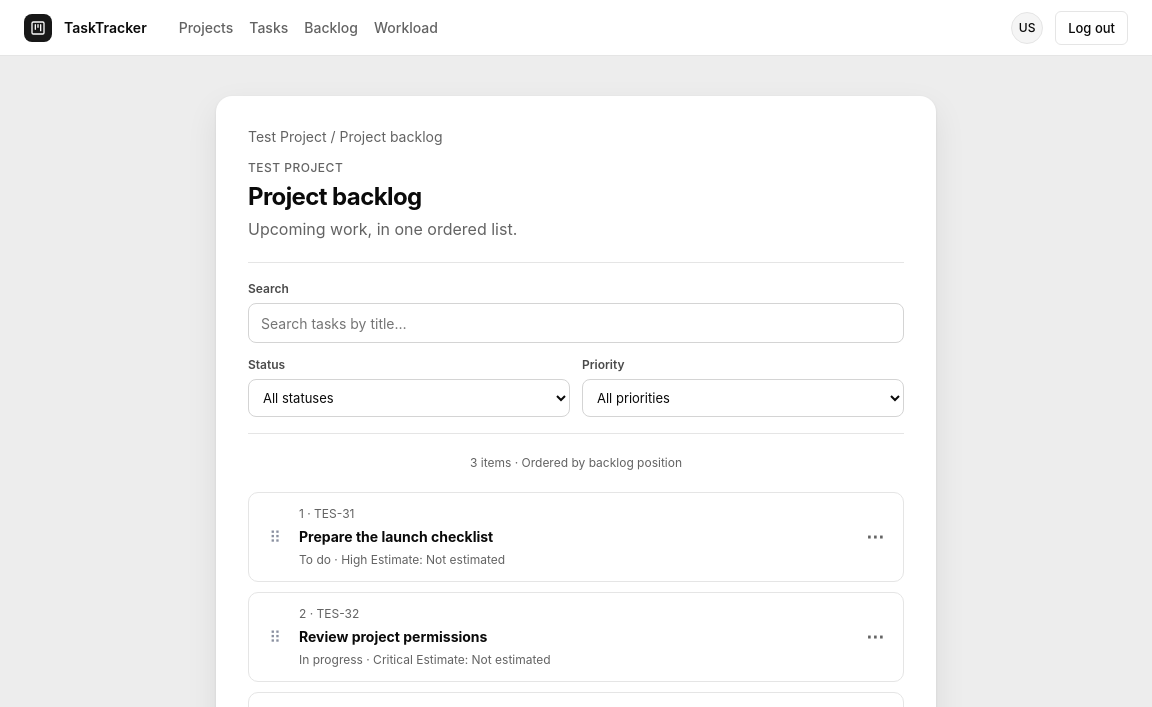
Scenario: [US-24] Prioritize and Reorder Backlog Items (T1WOR-163) › rolls back optimistic priority change when updateTaskPriority fails (State 09)
Expected: the heading "Project backlog" is shown, top-left (248, 181), bottom-right (422, 213)
# Open change priority
Click the button with test id "backlog-item-actions-btn-task-1". click: click(875, 537)
box: top-left (861, 523), bottom-right (889, 551)
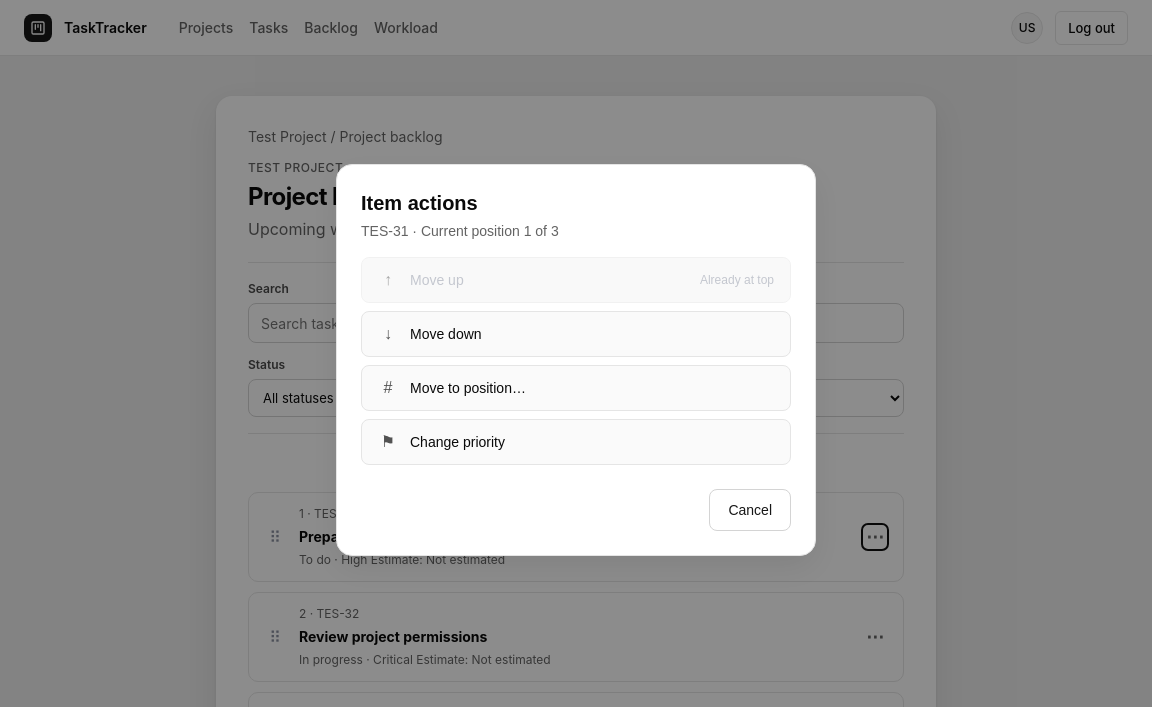
Click the button with test id "backlog-action-change-priority". click: click(457, 442)
box: top-left (361, 419), bottom-right (791, 465)
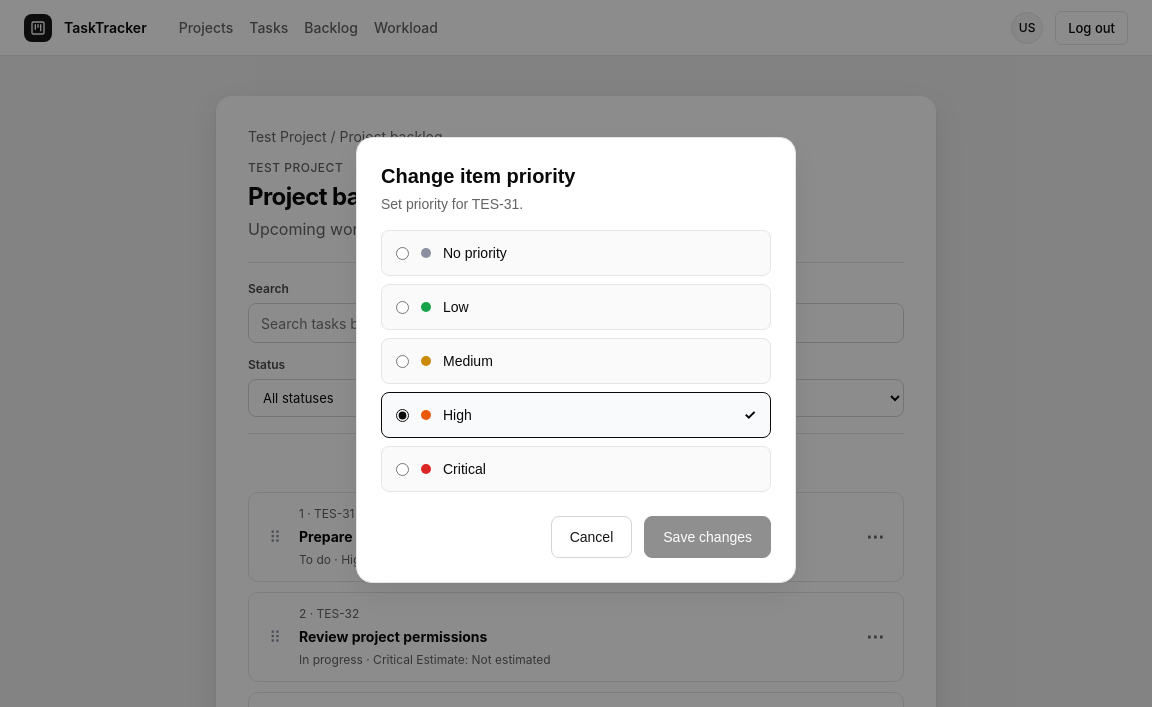
Click the label with test id "backlog-priority-option-LOW". click: click(402, 307)
box: top-left (381, 284), bottom-right (771, 330)
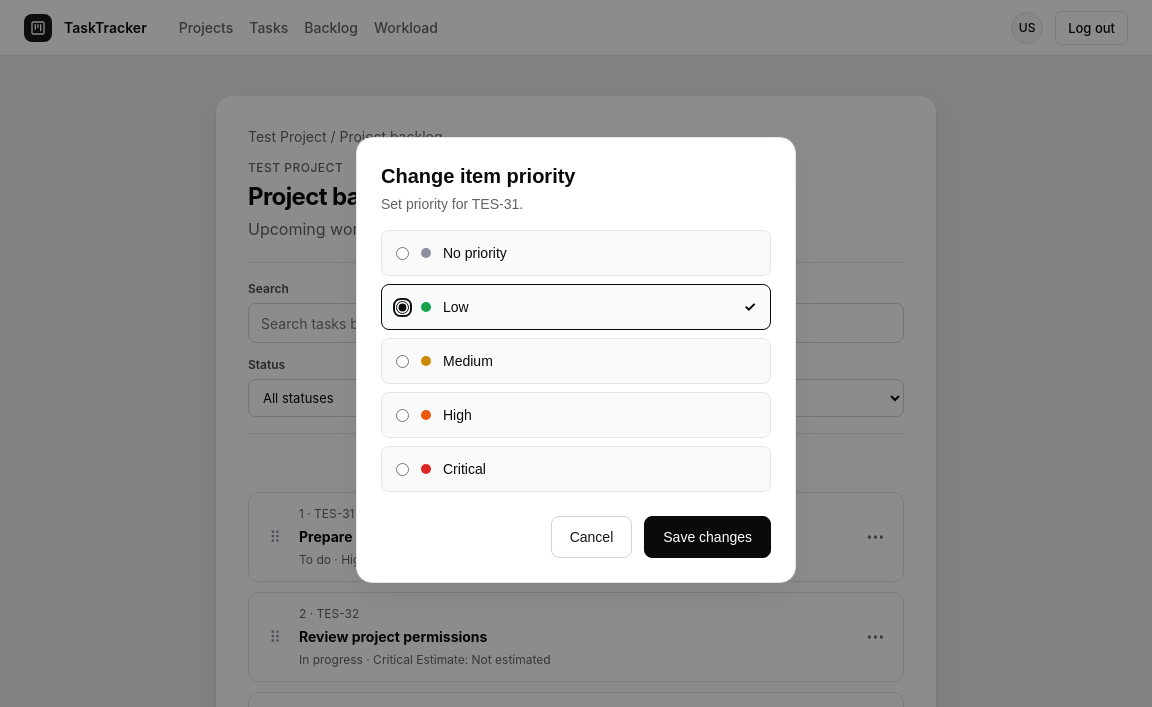
Click the button with test id "backlog-priority-submit-btn". click: click(708, 537)
box: top-left (644, 516), bottom-right (771, 558)
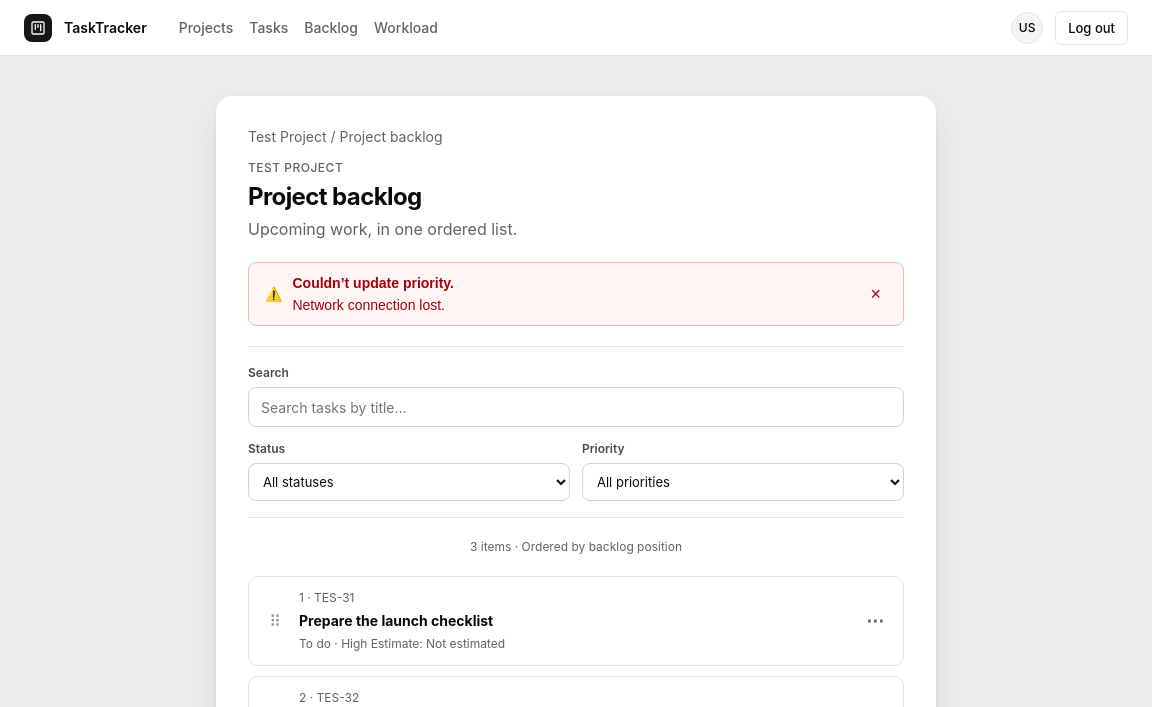
Now the message "⚠️ Couldn’t update priority. Network connection lost. ×" is shown, box top-left (248, 262), bottom-right (904, 326)
Now the message with test id "backlog-priority-error-banner" shows "Network connection lost.", box top-left (292, 297), bottom-right (445, 313)
